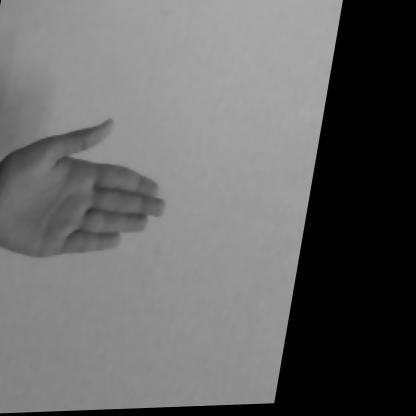palm: (0, 110, 214, 276)
